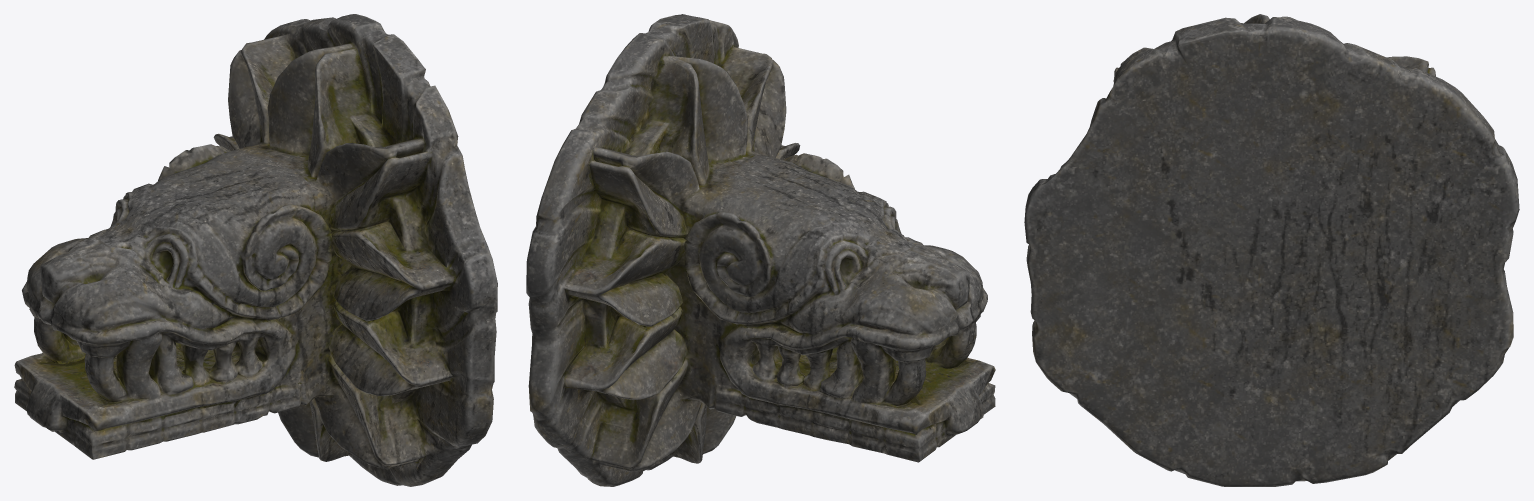
The model's file is SM_Sculpt_A.fbx.
The picture shows the model from 3 angles, left to right: view 1: azimuth 30°, elevation 25°; view 2: azimuth 150°, elevation 25°; view 3: azimuth 270°, elevation 25°; orthographic projection. The views are drawn at different scales.
Visible parts, largest first — view 1: SM_Sculpt_A_LOD0; view 2: SM_Sculpt_A_LOD0; view 3: SM_Sculpt_A_LOD0.
Part boxes in pixels (left/top/right/bottom): SM_Sculpt_A_LOD0: left=14, top=14, right=497, bottom=486; SM_Sculpt_A_LOD0: left=526, top=14, right=995, bottom=486; SM_Sculpt_A_LOD0: left=1024, top=14, right=1519, bottom=486.
Bounding box in the file's own units: 506 × 601 × 617.
